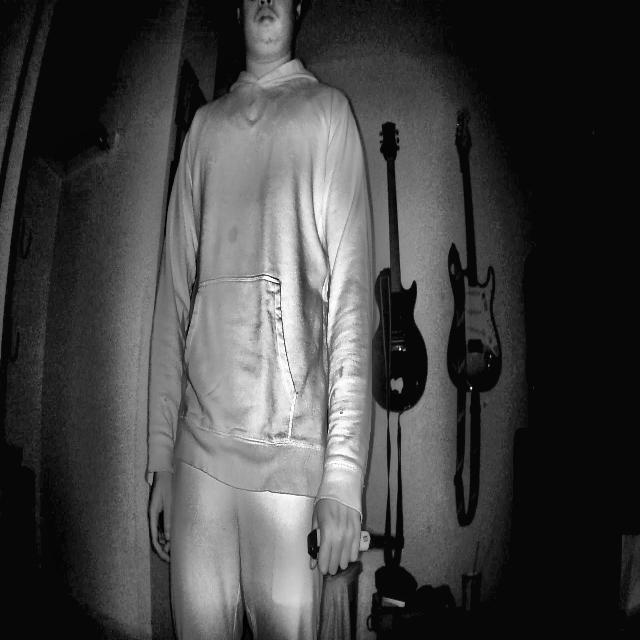knife: (296, 496, 410, 585)
